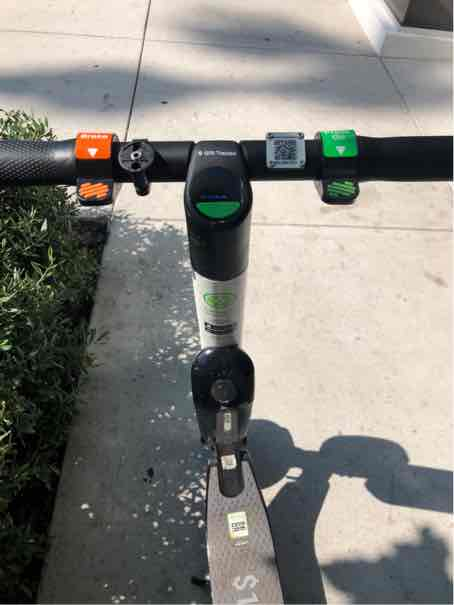scooter: (8, 94, 430, 605)
